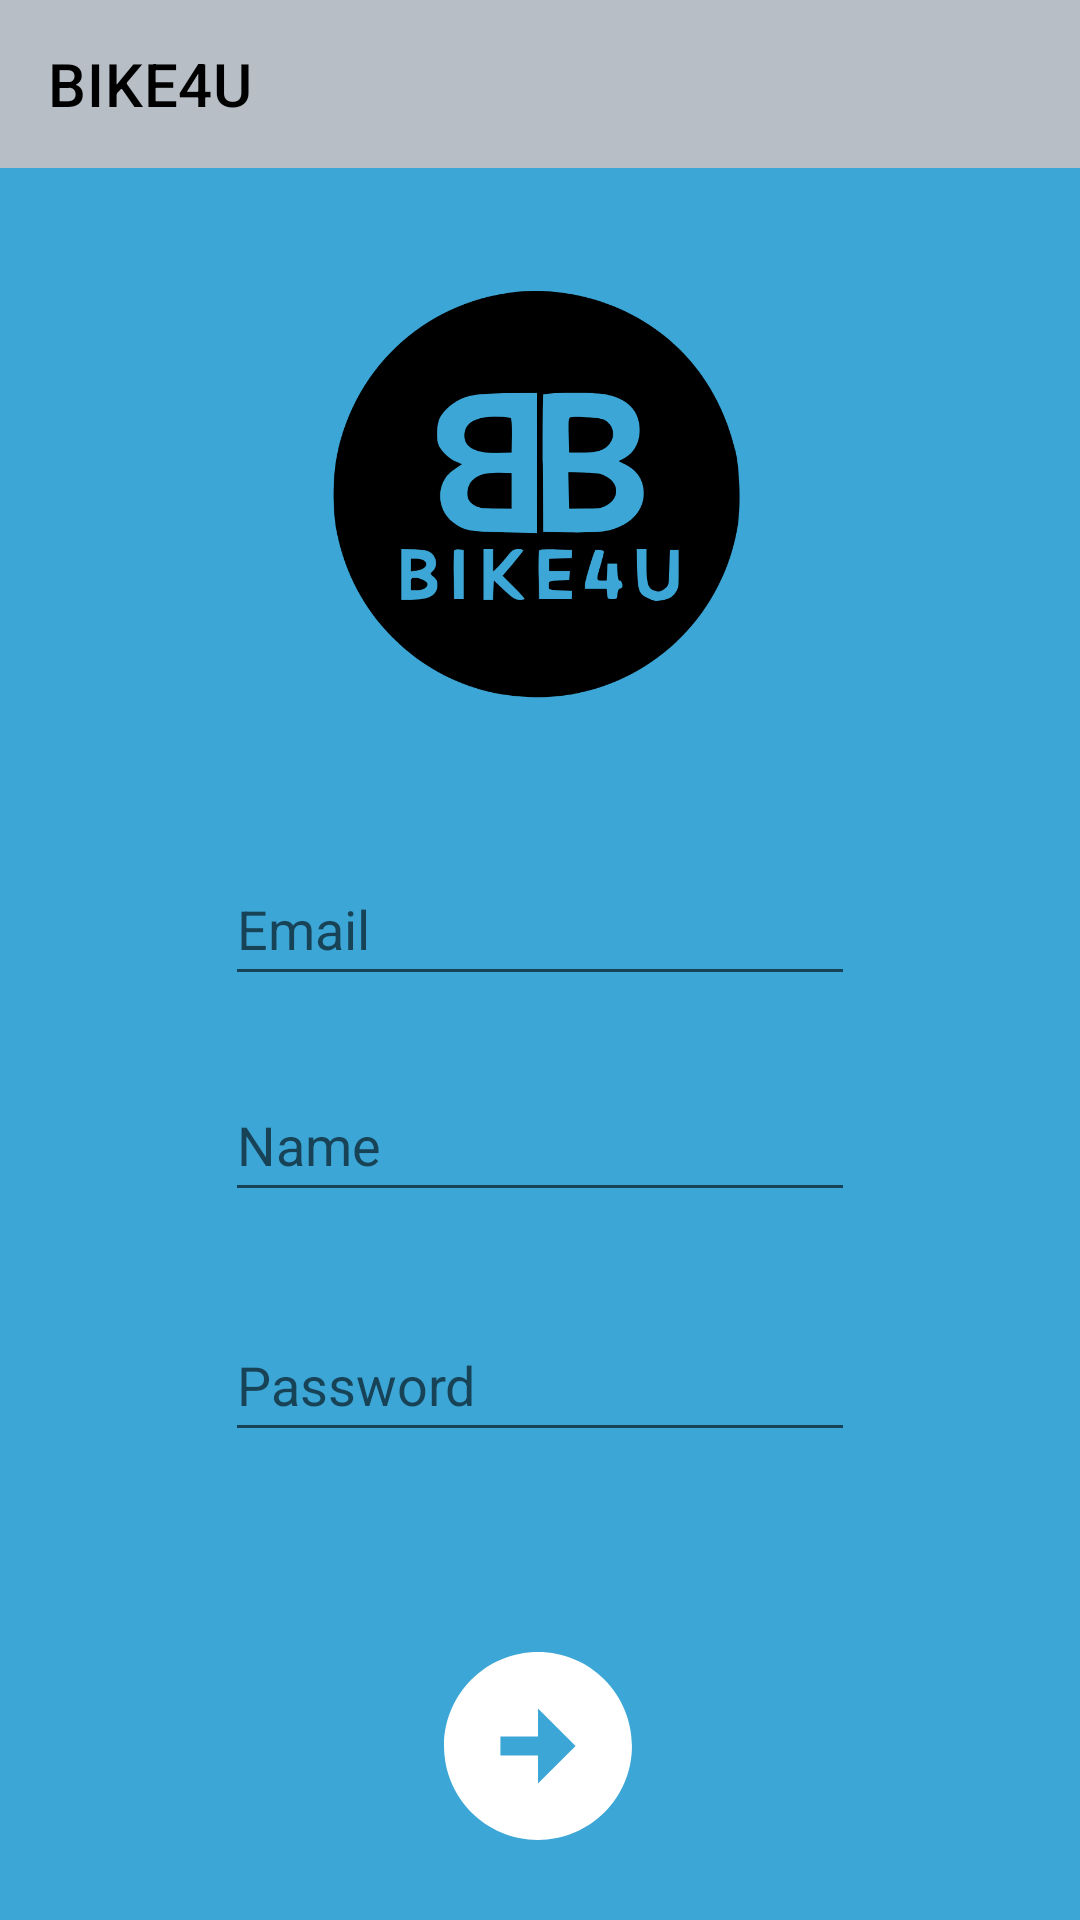

Locate icon controls on the screen. Image size 1080 × 1920, boxes as box=[x1, y1, x2, y2].
acceder: box=[444, 1652, 632, 1840]
